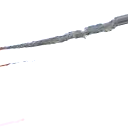crackTip: (1, 11, 128, 71)
